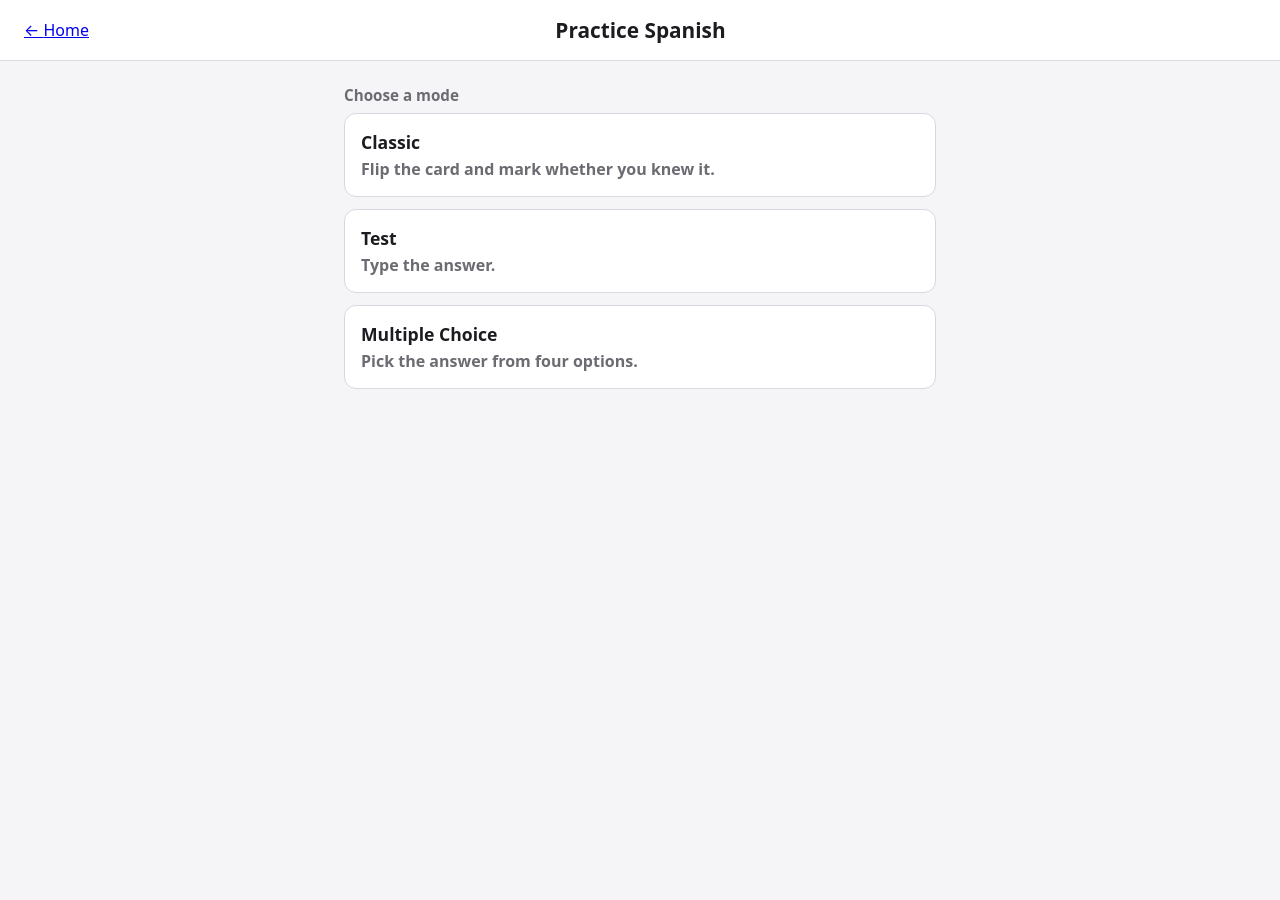
Scenario: ModeChooser › answering by voice (#387) › switches off and explains itself when grading at the end
expect the heading "Practice Spanish" is shown: met, box x1=555 y1=16 x2=726 y2=44
Click the button "Test Type the answer.": [379, 238] box x1=344 y1=209 x2=936 y2=293
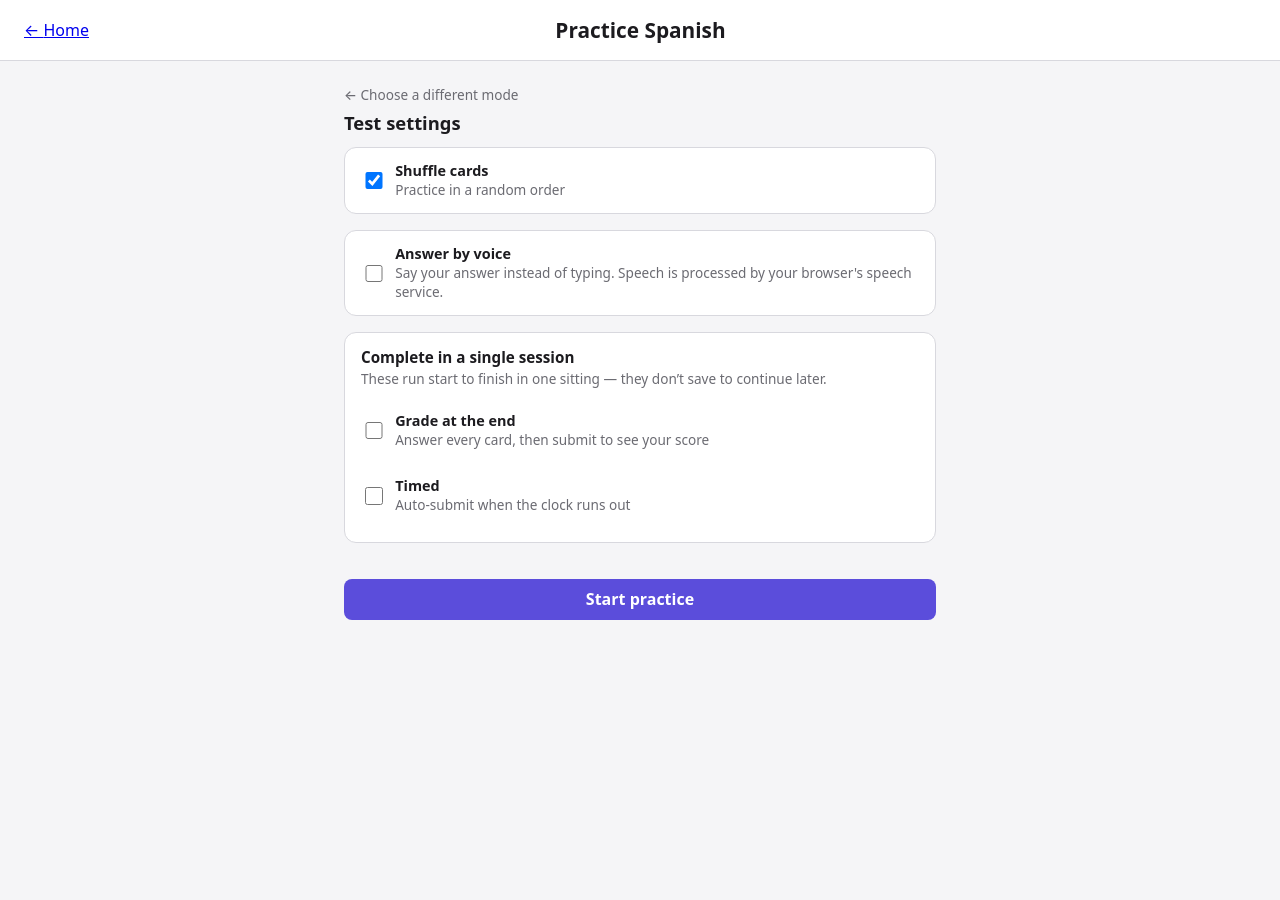
Click the checkbox labelled "Answer by voice": [374, 273] box x1=365 y1=265 x2=383 y2=282
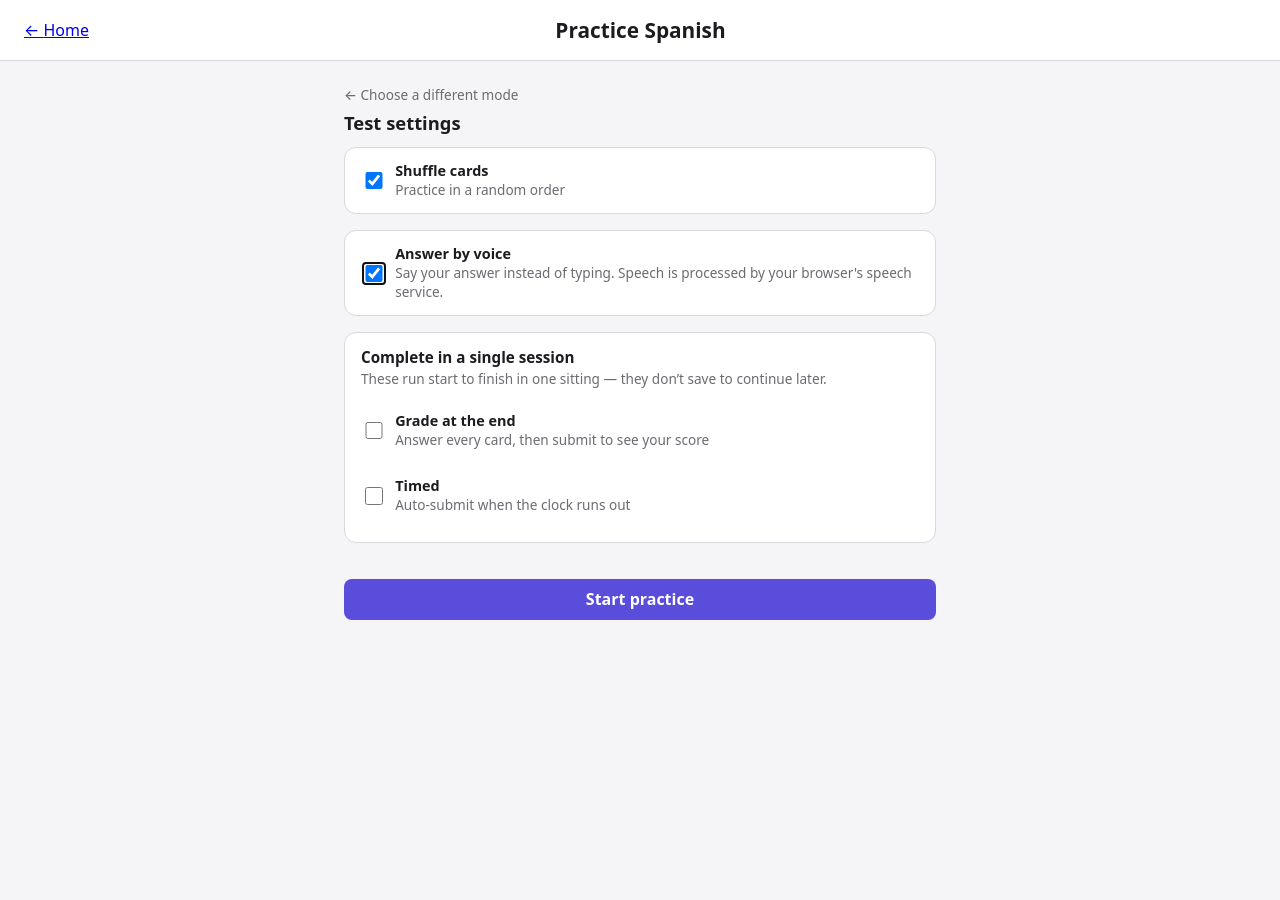
expect the checkbox labelled "Answer by voice" is checked: met, box x1=365 y1=265 x2=383 y2=282
Click the checkbox labelled "Grade at the end": [374, 431] box x1=365 y1=422 x2=383 y2=439
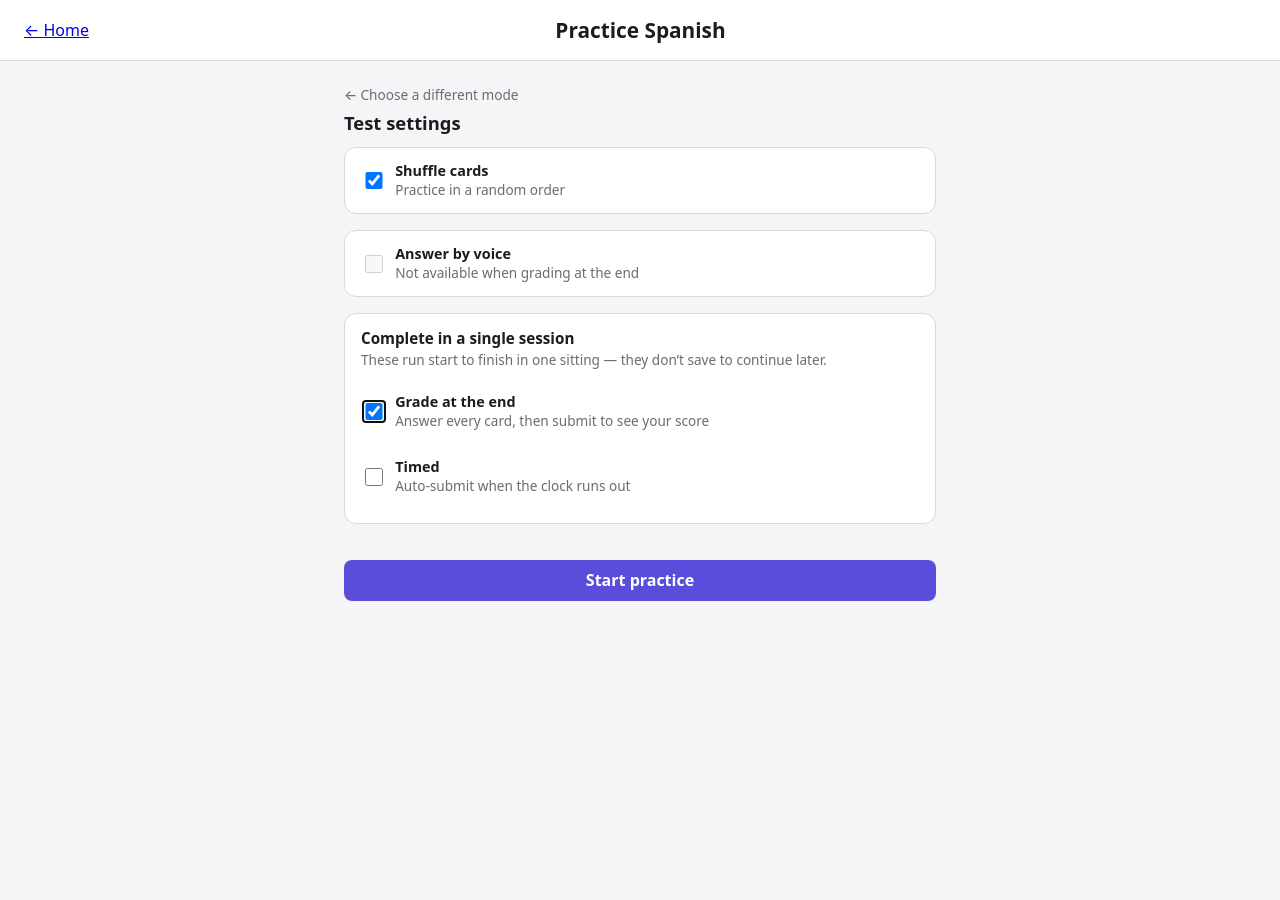
expect the checkbox labelled "Answer by voice Not available when grading at the end" is not checked: met, box x1=365 y1=255 x2=383 y2=273
expect the checkbox labelled "Answer by voice Not available when grading at the end" is disabled: met, box x1=365 y1=255 x2=383 y2=273
